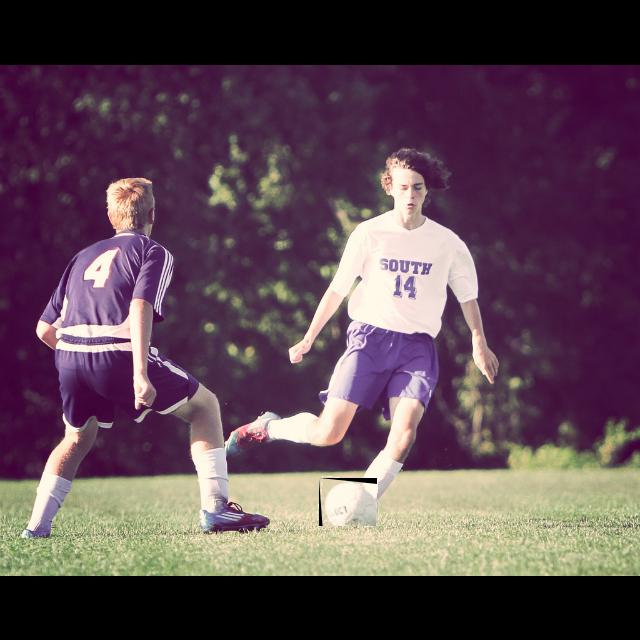Football: (319, 478, 377, 526)
